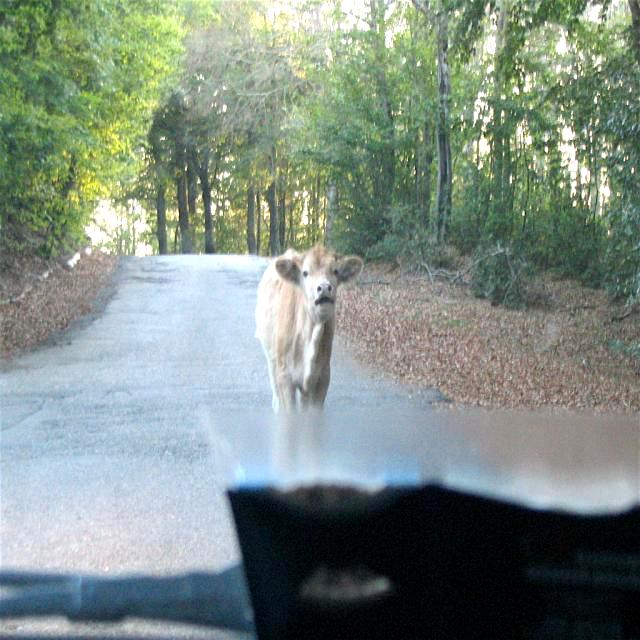COW: (256, 245, 362, 411)
